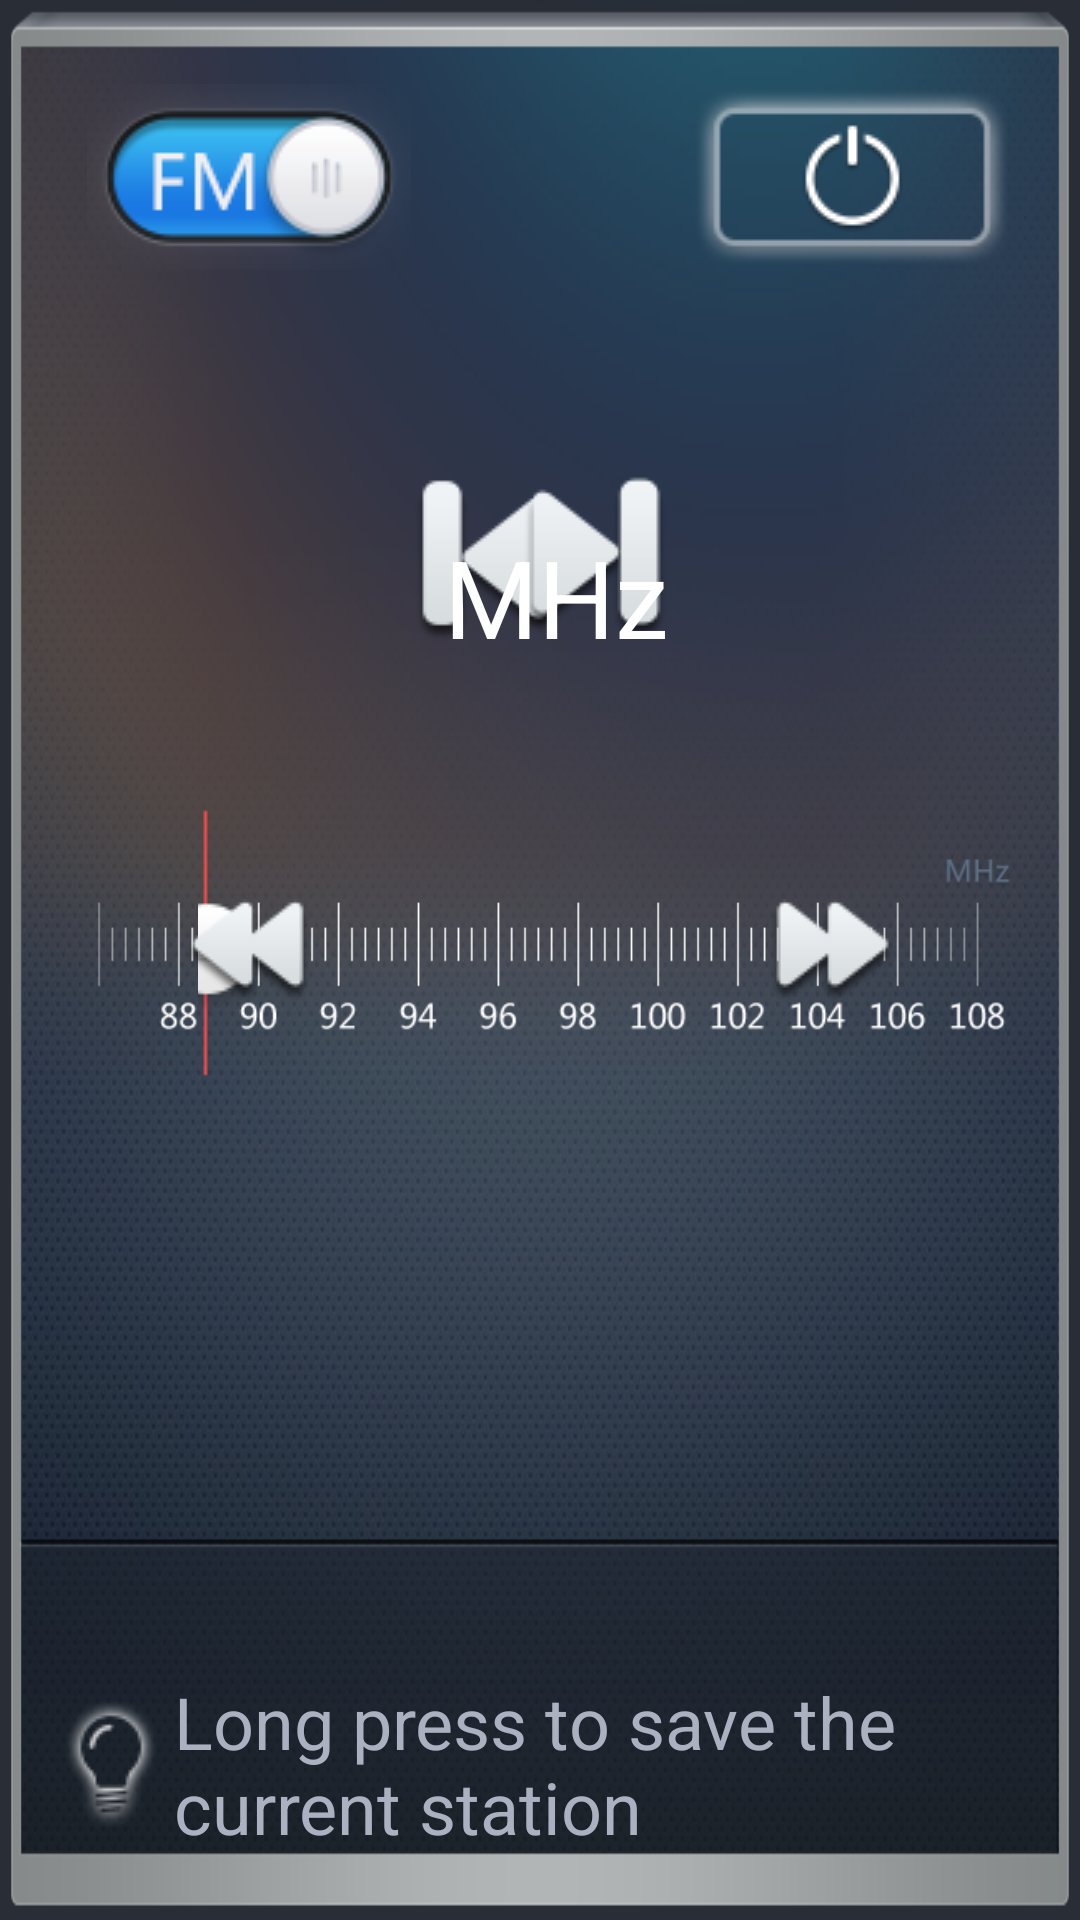

Screen size 1080 × 1920. Icon name, then its box in pixels as (x1,y1,x2,y2):
neu gemini off: (702,95,1002,258)
